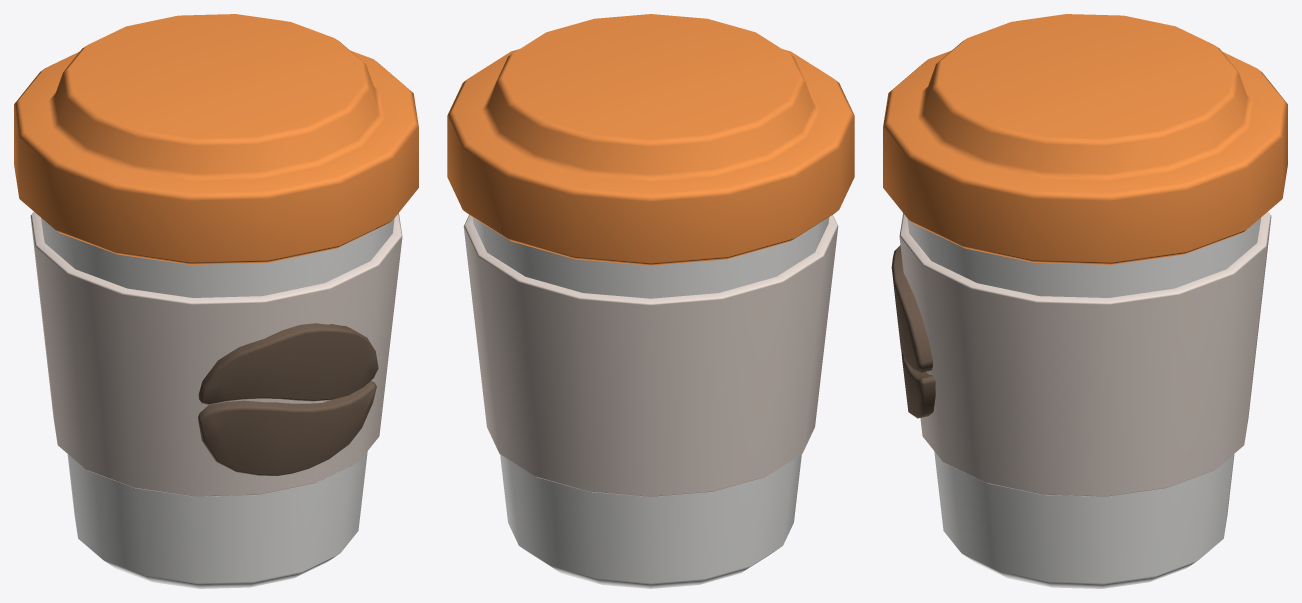
The model's file is Coffee_drink.glb.
3 renders of one model, left to right at view 1: azimuth 30°, elevation 25°; view 2: azimuth 150°, elevation 25°; view 3: azimuth 270°, elevation 25°, orthographic.
Parts seen in each view (by area): view 1: Coffee_Drink_1; view 2: Coffee_Drink_1; view 3: Coffee_Drink_1.
Boxes of the visible parts, x1,y1,x2,y2 form: Coffee_Drink_1: (14, 14, 418, 588); Coffee_Drink_1: (447, 14, 854, 588); Coffee_Drink_1: (883, 14, 1287, 588).
Bounding box in the file's own units: 0.2286 × 0.2862 × 0.2286.
1 material, 1 textured.
